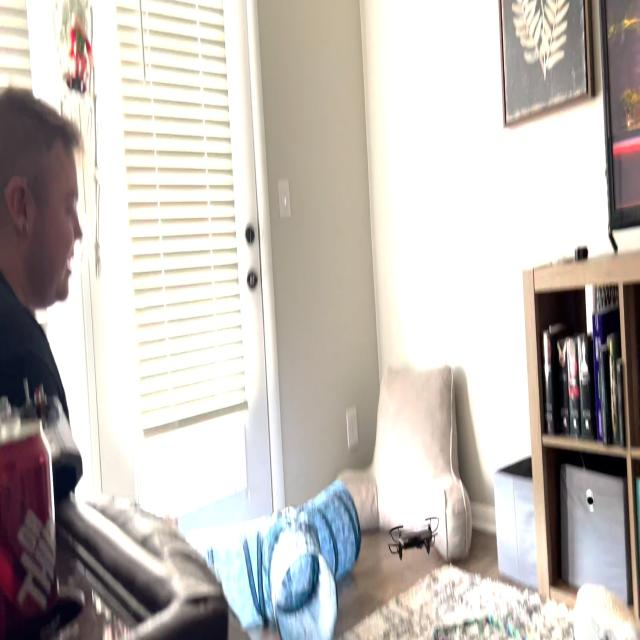drone: (381, 506, 440, 571)
